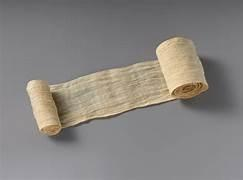cotton: (27, 37, 207, 134)
